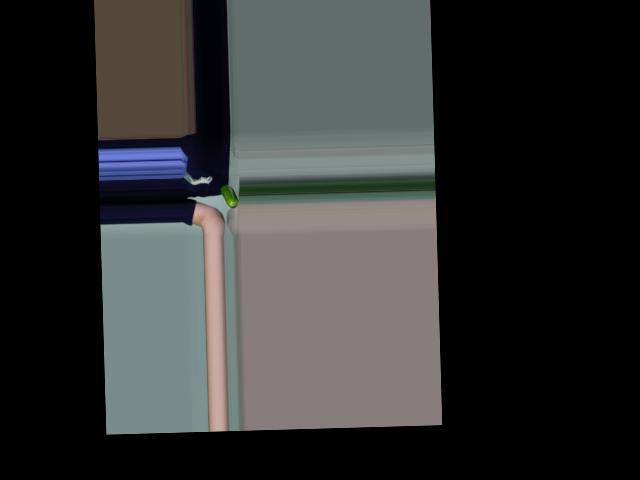cucumber: (220, 184, 239, 208)
